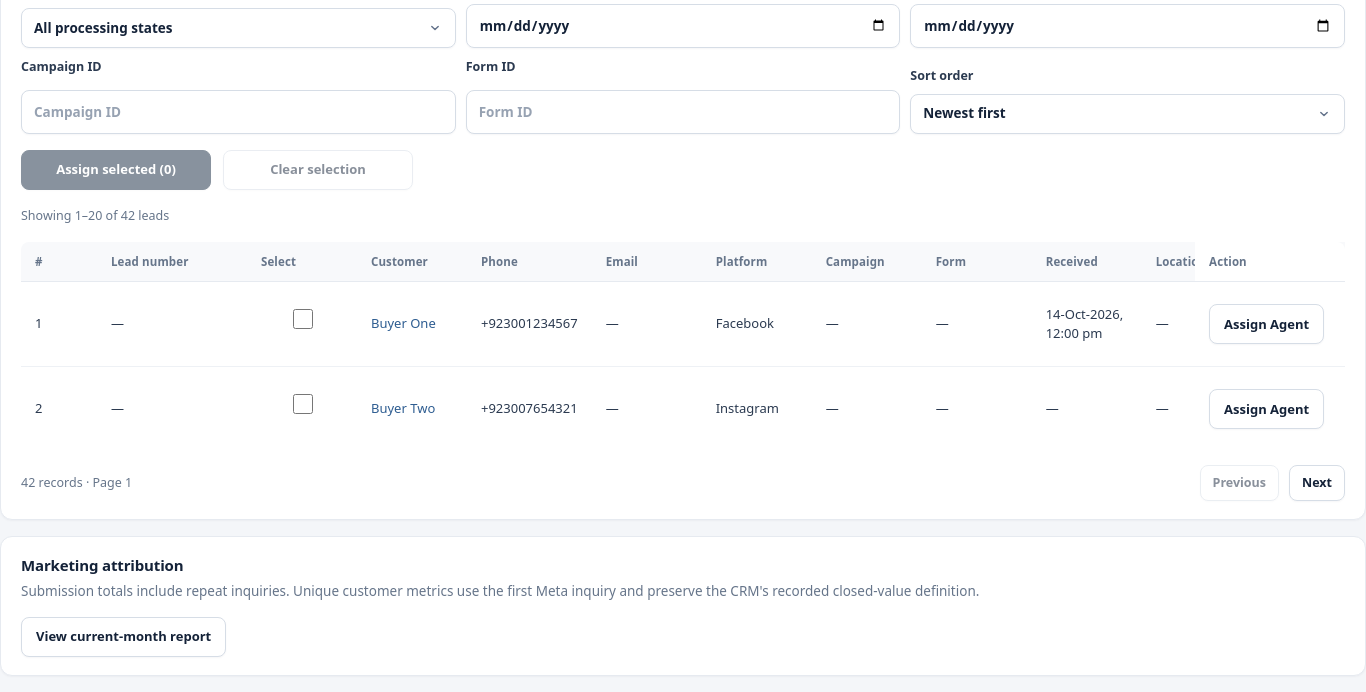
Scenario: Meta integration and incoming leads interface › lets an admin select two customers, choose an active agent and confirm once
The width and height of the screenshot is (1366, 692).
(page scrolled)
Check: the link "Buyer One" is shown, box x1=371 y1=314 x2=436 y2=332
Step 1. Click the checkbox named "Select Buyer One" → (302, 318), box x1=292 y1=308 x2=312 y2=328
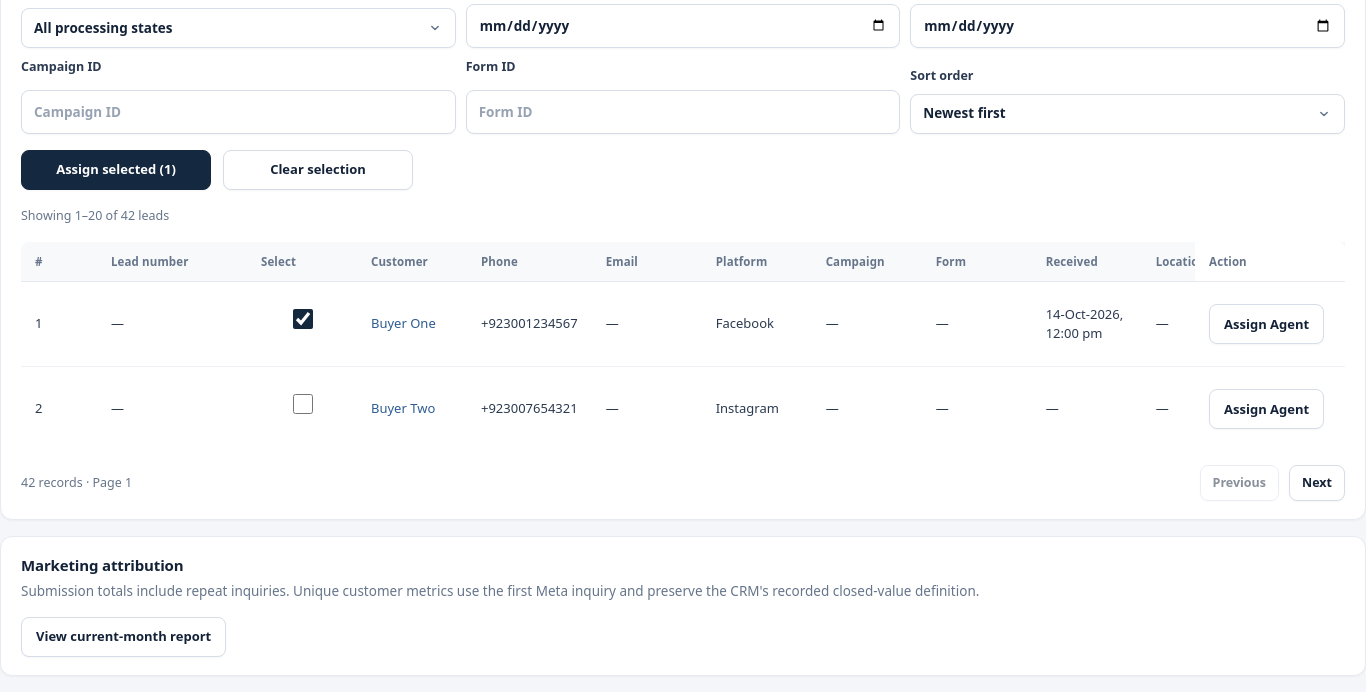
Step 2. Click the checkbox named "Select Buyer Two" → (302, 404), box x1=292 y1=394 x2=312 y2=414
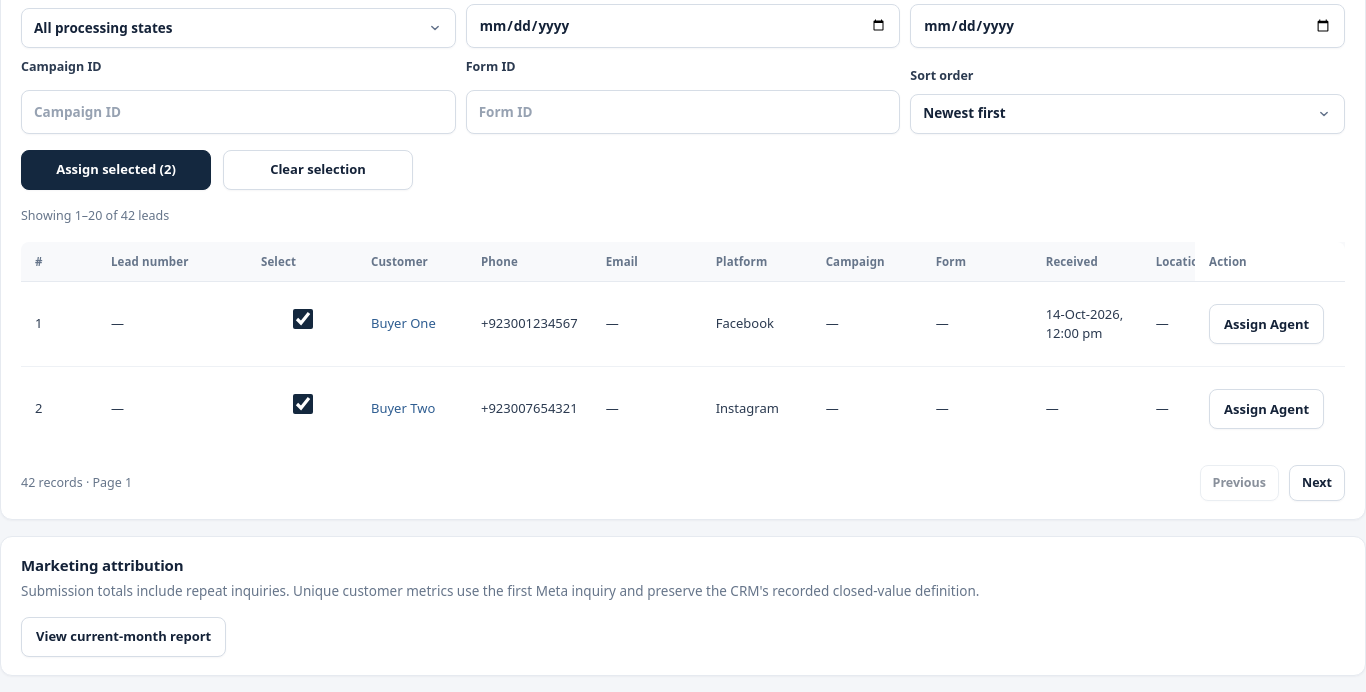
Step 3. Click the button "Assign selected (2)" → (116, 170), box x1=21 y1=150 x2=211 y2=190
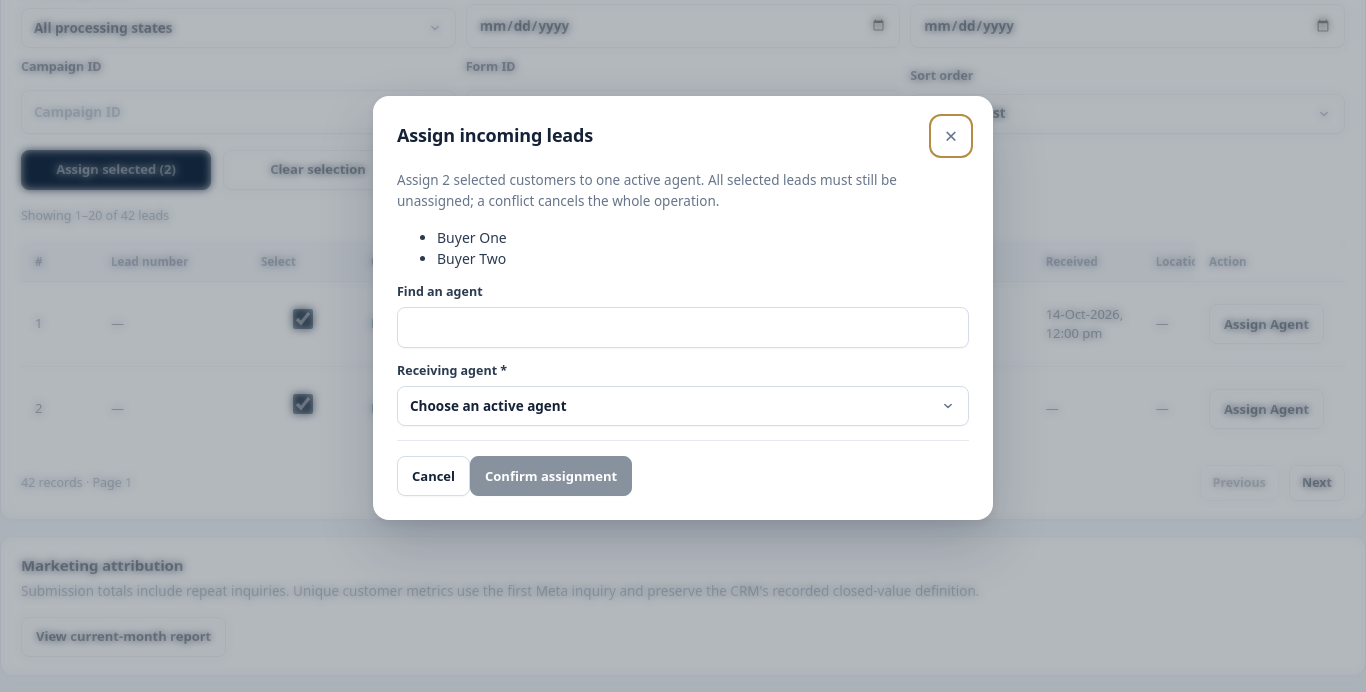
Check: the list item "Buyer One" is shown, box x1=437 y1=228 x2=507 y2=247
Check: the button "Confirm assignment" is disabled, box x1=470 y1=456 x2=632 y2=496
Step 4. Select "Active Agent" in the dropdown labelled "Receiving agent *" → (683, 406), box x1=397 y1=386 x2=969 y2=426
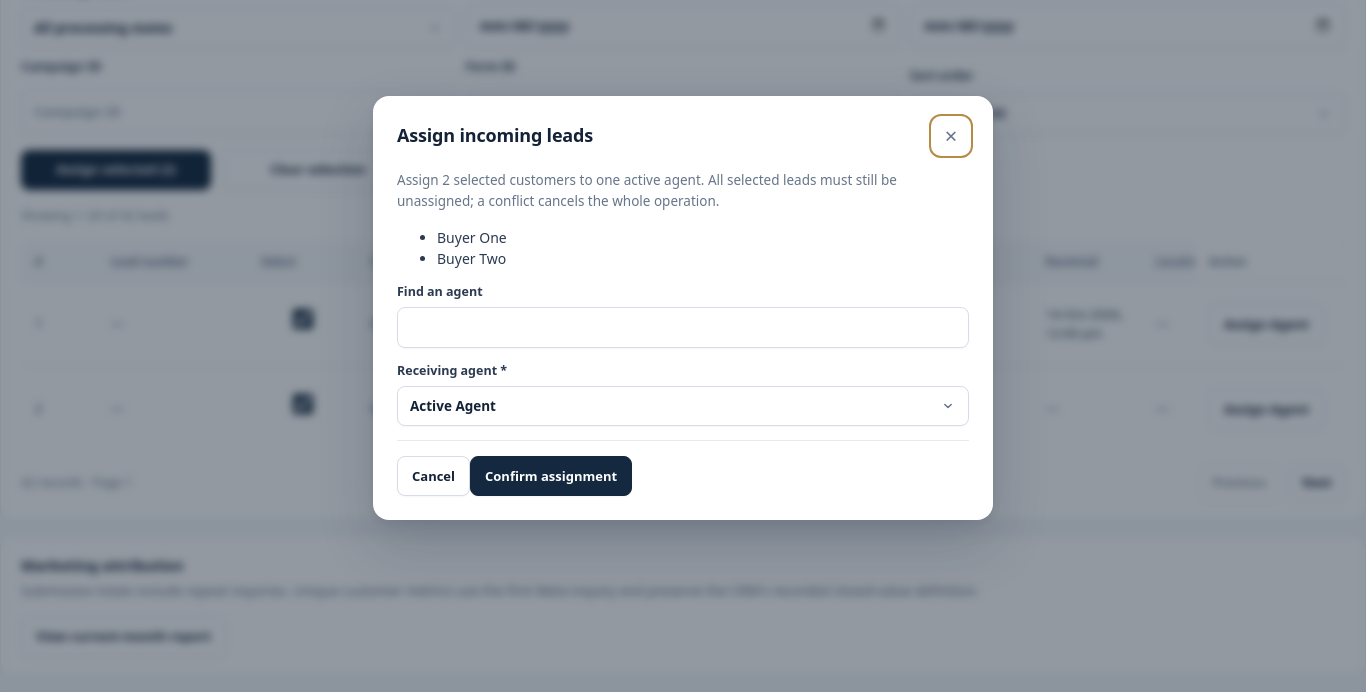
Step 5. Click the button "Confirm assignment" → (551, 476), box x1=470 y1=456 x2=632 y2=496
(page scrolled)
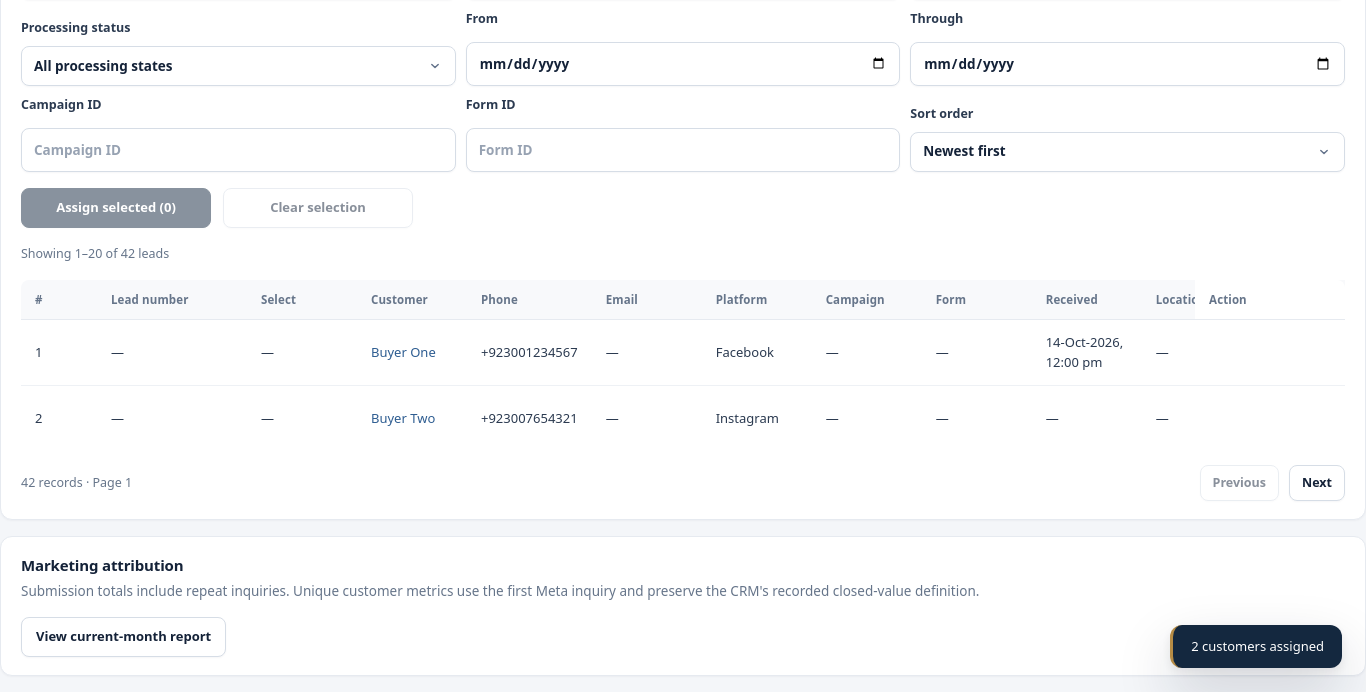
Check: the text "2 customers assigned" is shown, box x1=1170 y1=624 x2=1342 y2=668
Check: the dialog is gone
